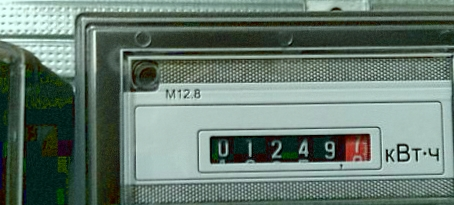0: (216, 137, 230, 157)
1: (243, 137, 255, 158)
2: (268, 137, 284, 159)
4: (297, 137, 310, 157)
7: (351, 133, 364, 153)
9: (323, 138, 336, 159)
screen: (194, 121, 386, 174)
